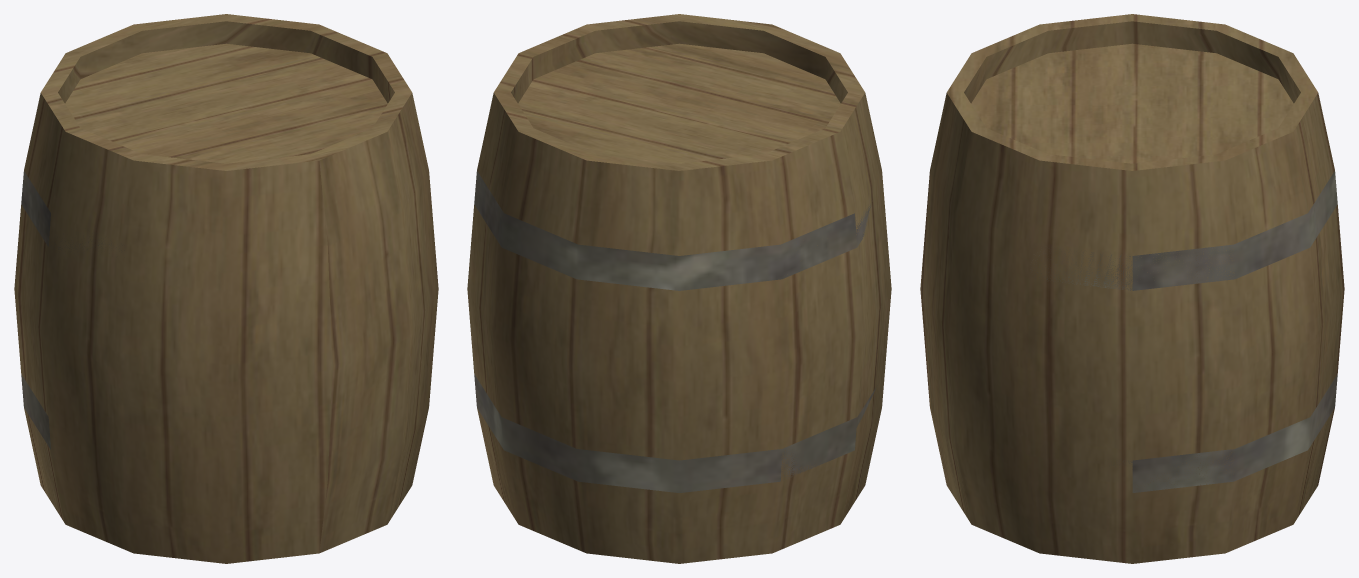
Rendered from keg02.glb.
3 views of the same model, side by side, from view 1: azimuth 30°, elevation 25°; view 2: azimuth 150°, elevation 25°; view 3: azimuth 270°, elevation 25° (orthographic).
Parts seen in each view (by area): view 1: keg02; view 2: keg02; view 3: keg02.
Part boxes in pixels (x1,y1,x2,y2): keg02: [14, 14, 438, 563]; keg02: [467, 14, 891, 563]; keg02: [920, 14, 1344, 563].
Bounding box in the file's own units: 0.8494 × 0.868 × 0.8494.
2 materials, 2 textured.
